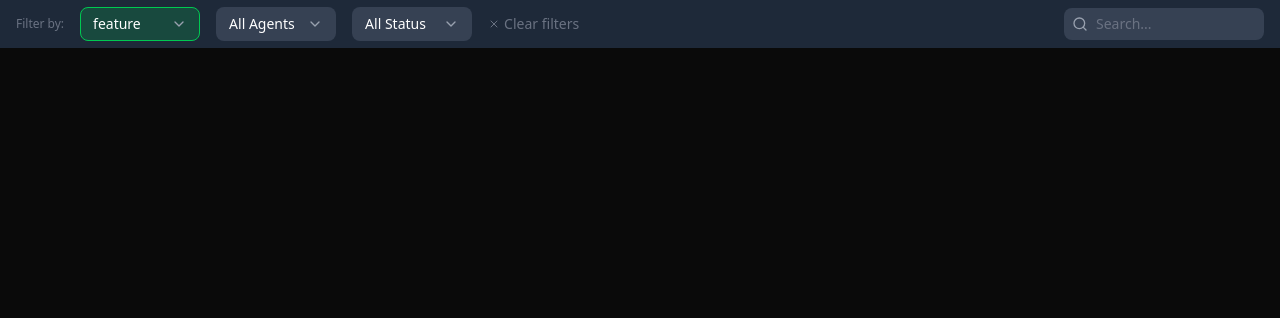
Test case: FilterBar › selected option styling › should show checkmark on selected option
The width and height of the screenshot is (1280, 318).
Click the button with test id "type-filter-dropdown": (140,24) [80, 7, 200, 41]
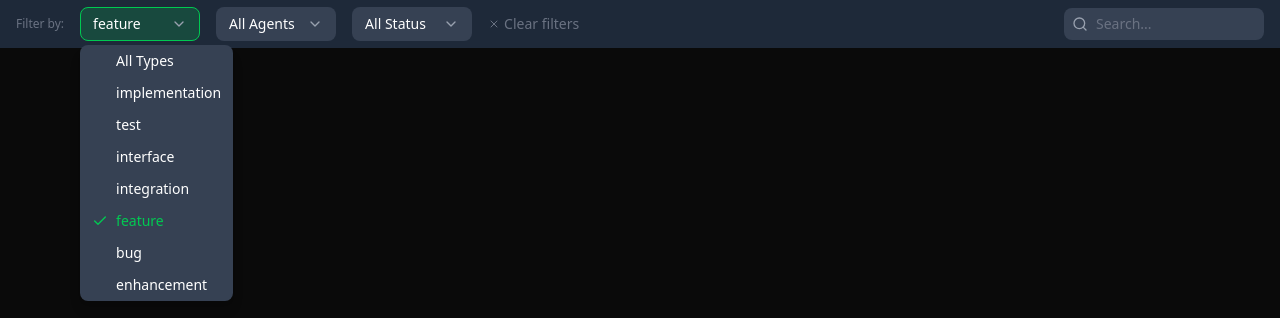
Expected: the icon with test id "check-icon" is shown, [92, 213, 108, 229]
